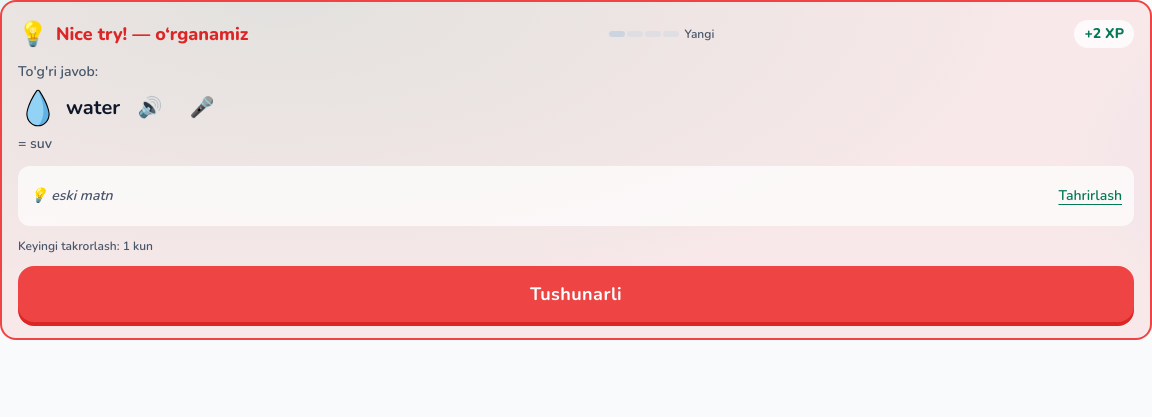
FeedbackBar — mnemonika › tahrirlash bosilganda maydon MAVJUD matn bilan to‘ladi
Click the button "Tahrirlash": (1090, 196) [1058, 174, 1122, 218]
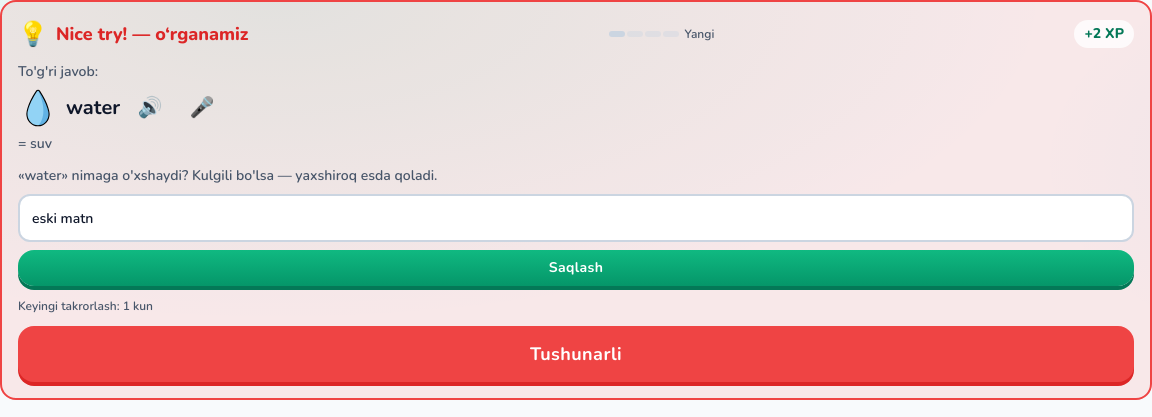
expect the field named "nimaga o.xshaydi" holds "eski matn": met, box [18, 194, 1134, 242]
